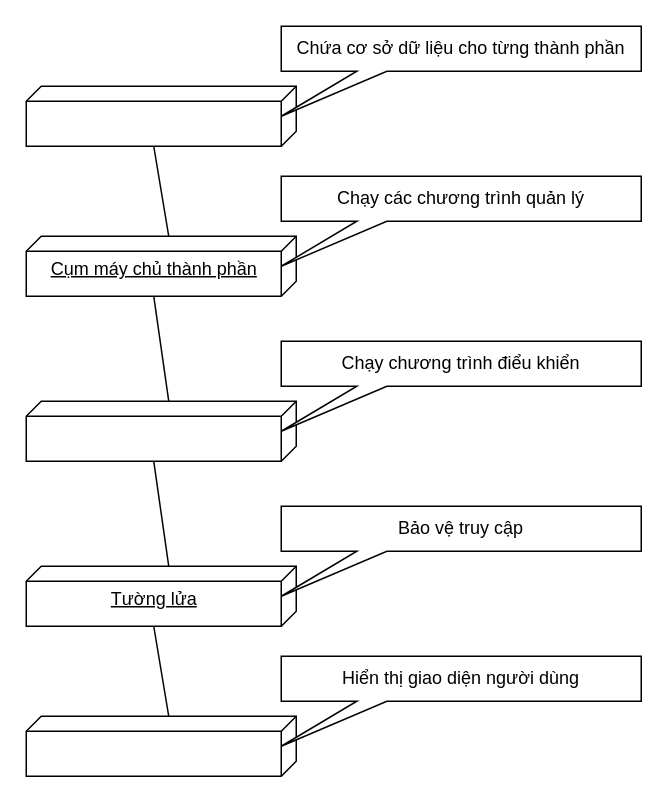
The diagram is 668 pixels wide and 803 high, and some of its shapes have lost their labels. Each missing label, with the box of its shape:
Máy chủ dữ liệu: (25, 85, 296, 146)
Máy chủ điều khiển: (25, 400, 296, 461)
Thiết bị người dùng: (25, 715, 296, 776)
